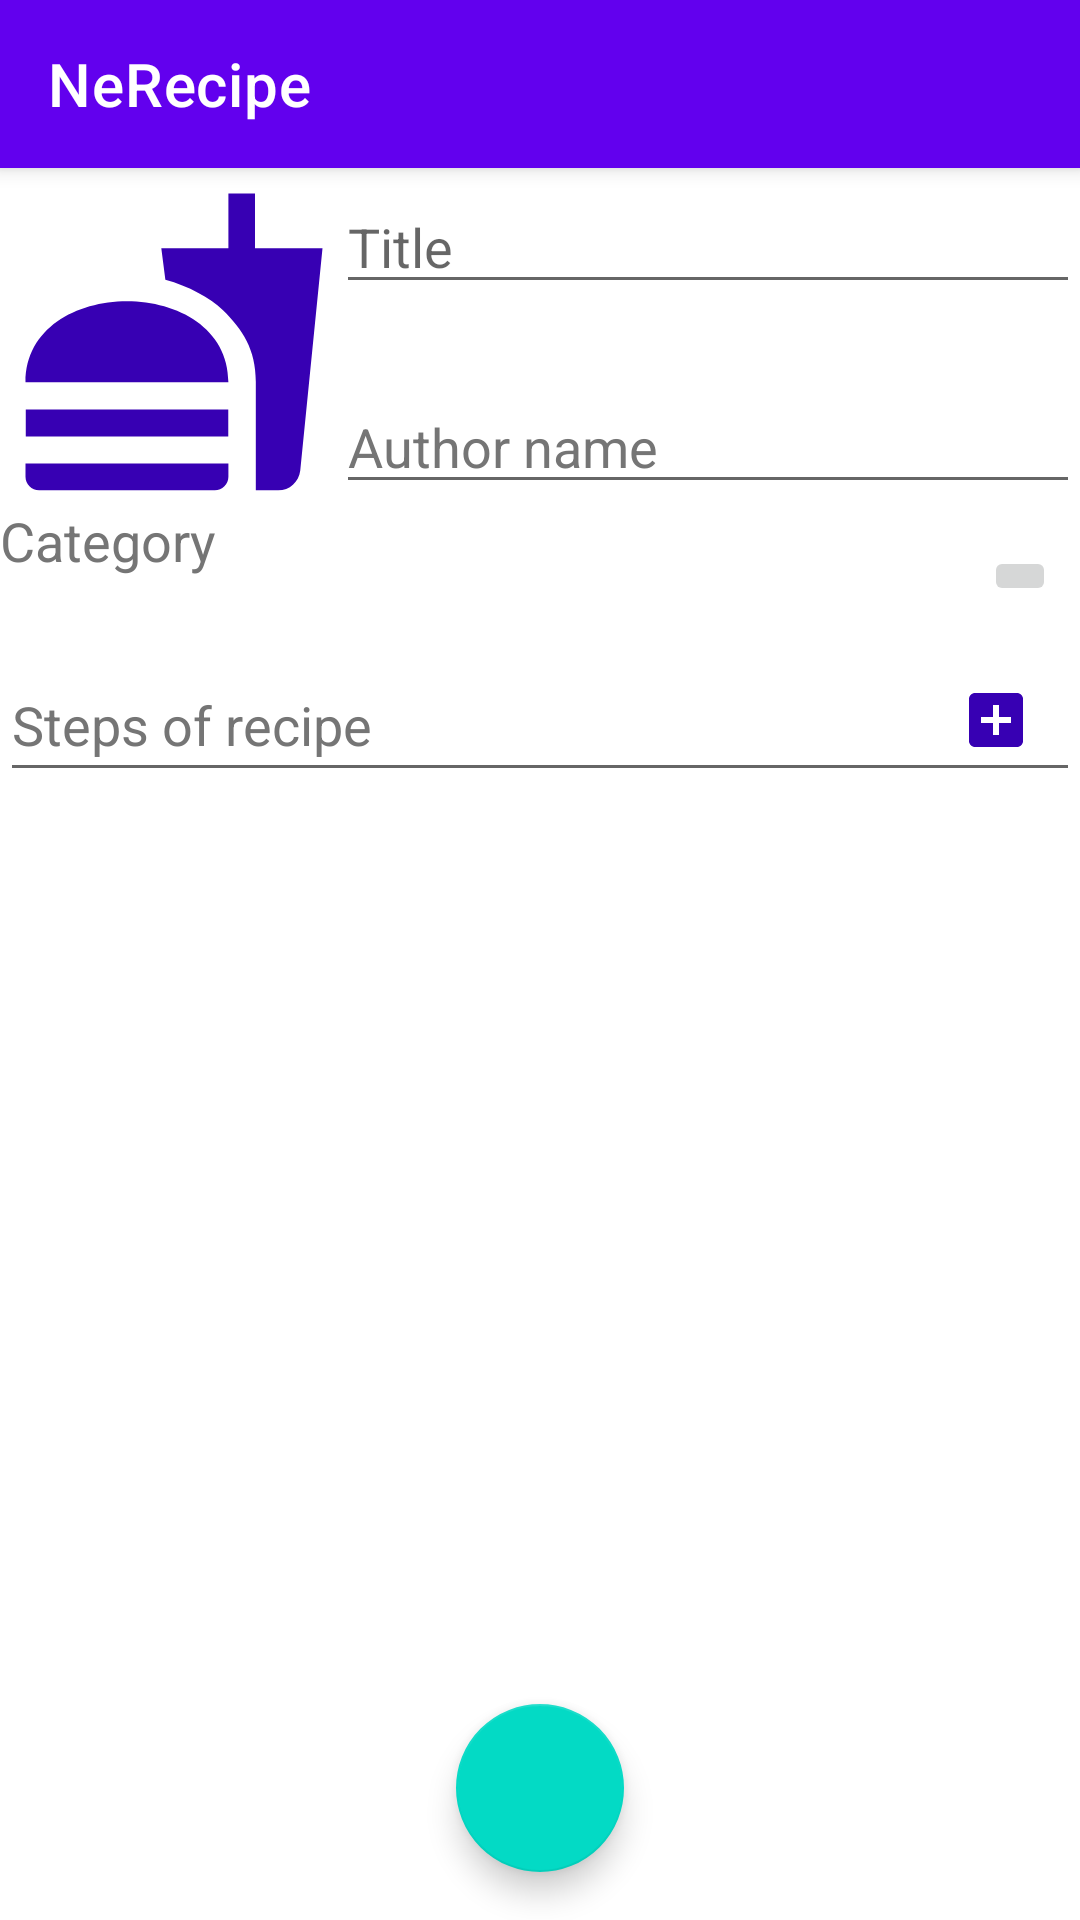

Where icons sit on this 1080x1920 app screen, as region(x1, y1, x2, y2):
add box: region(969, 693, 1023, 747)
fastfood: region(25, 193, 323, 491)
